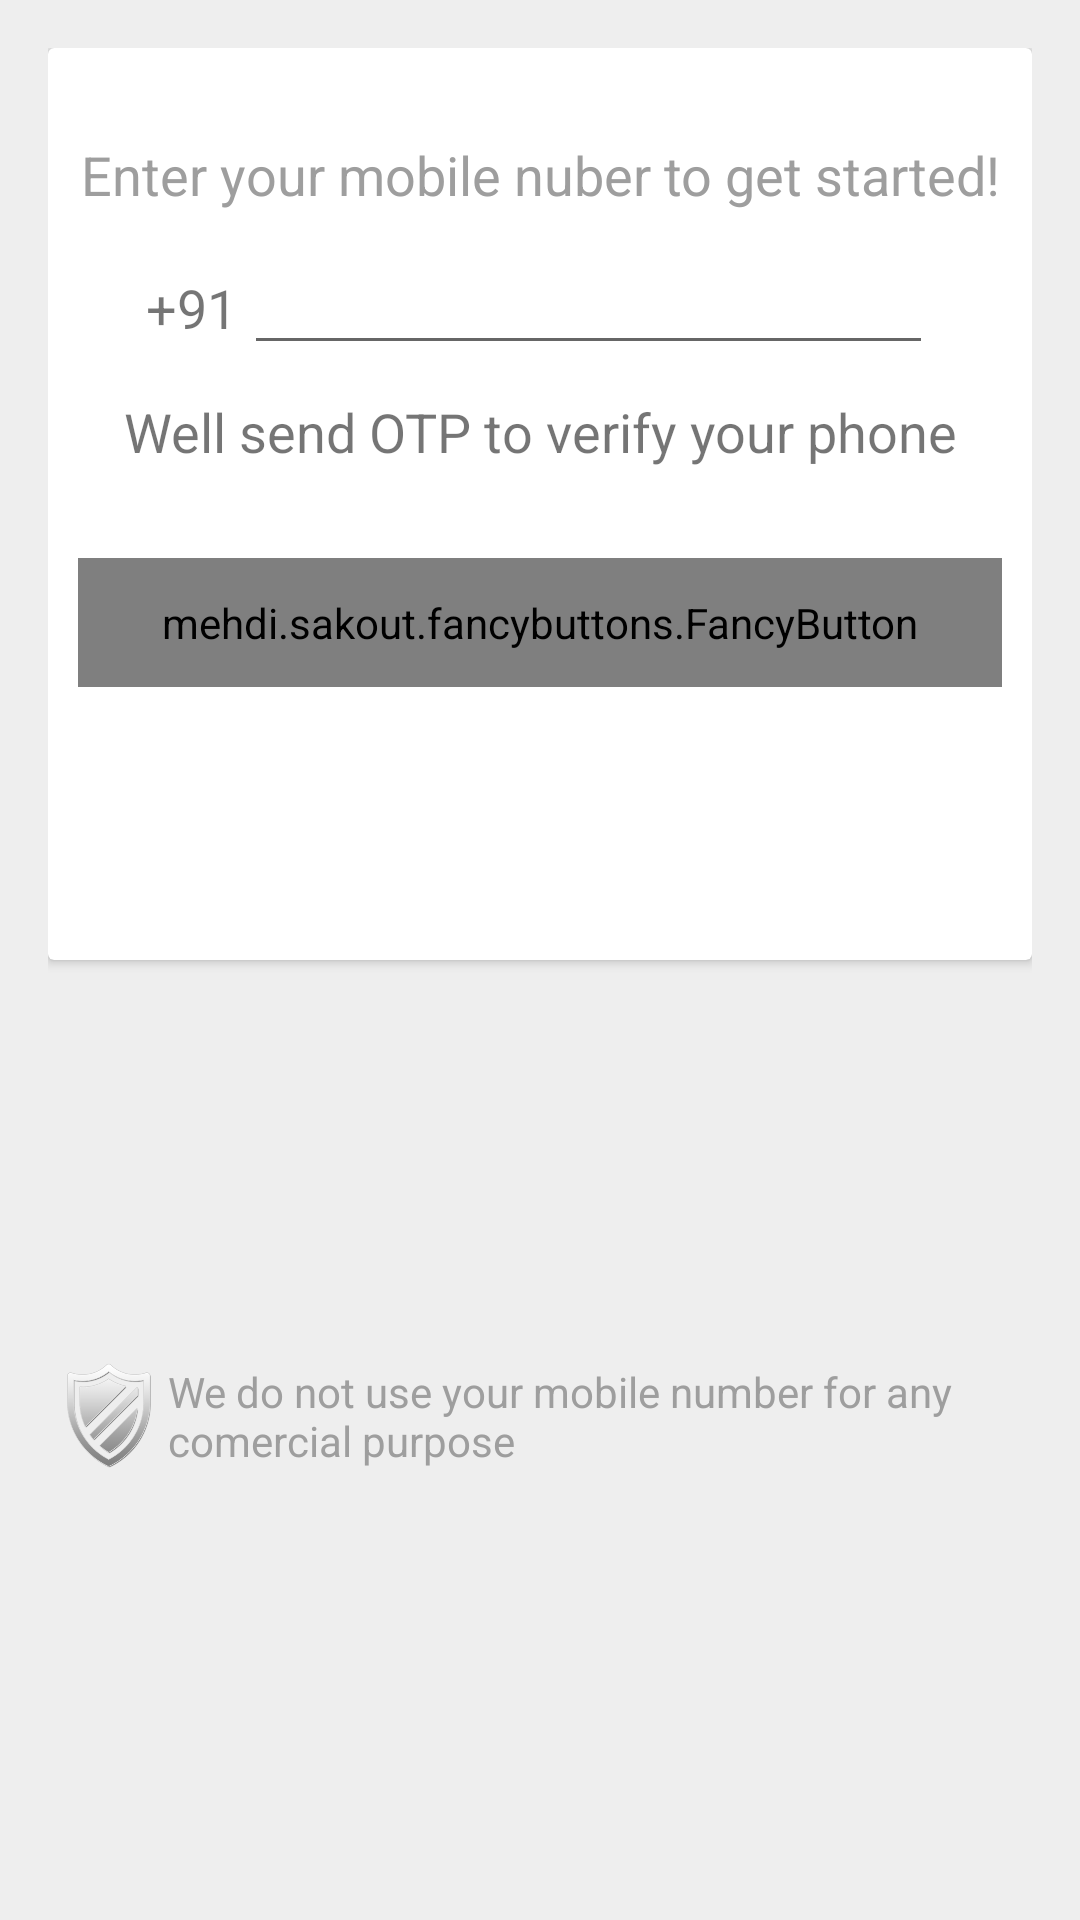

Icons on this 1080 × 1920 Android screen, each with the point to tap as (x,y):
secure: (109,1418)
